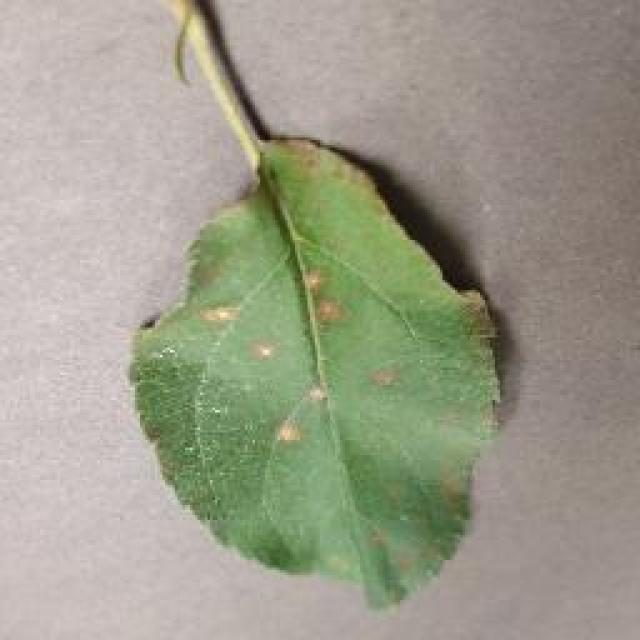Apple___Cedar_apple_rust: (123, 135, 505, 616)
